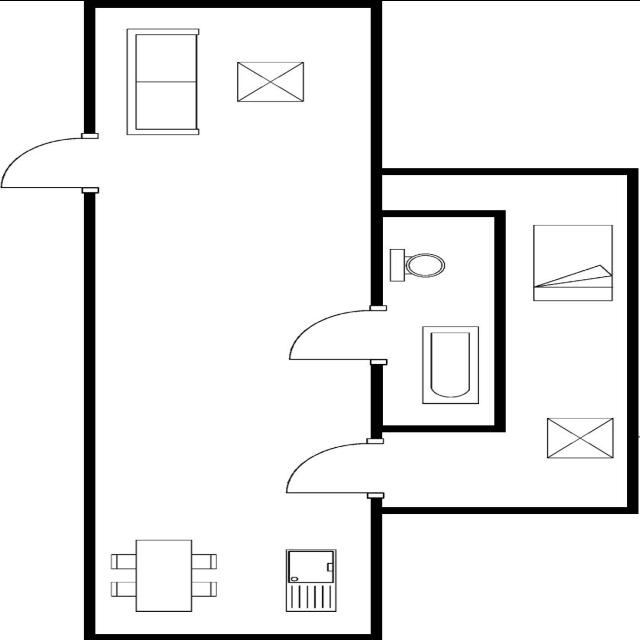bed: (527, 222, 616, 304)
cavity: (418, 324, 483, 406)
coffee_table: (231, 59, 309, 104), (542, 415, 618, 461)
dining_table: (106, 536, 218, 613)
large_sink: (386, 245, 450, 283)
large_sofa: (122, 26, 205, 138)
sink: (279, 546, 340, 614)
tub: (416, 322, 484, 407)
